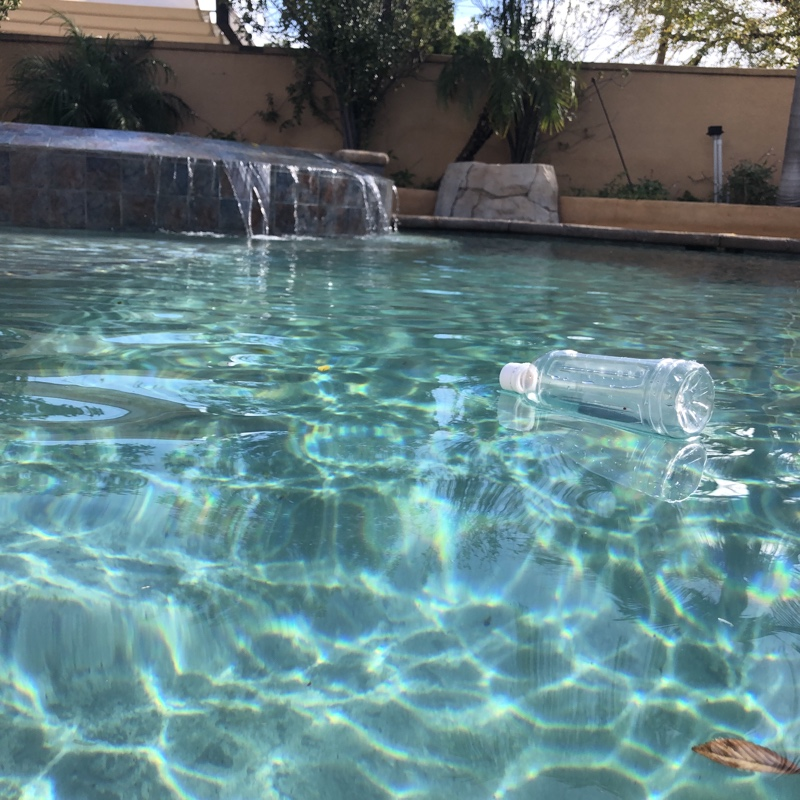Plastic Bottle: (498, 341, 720, 448)
